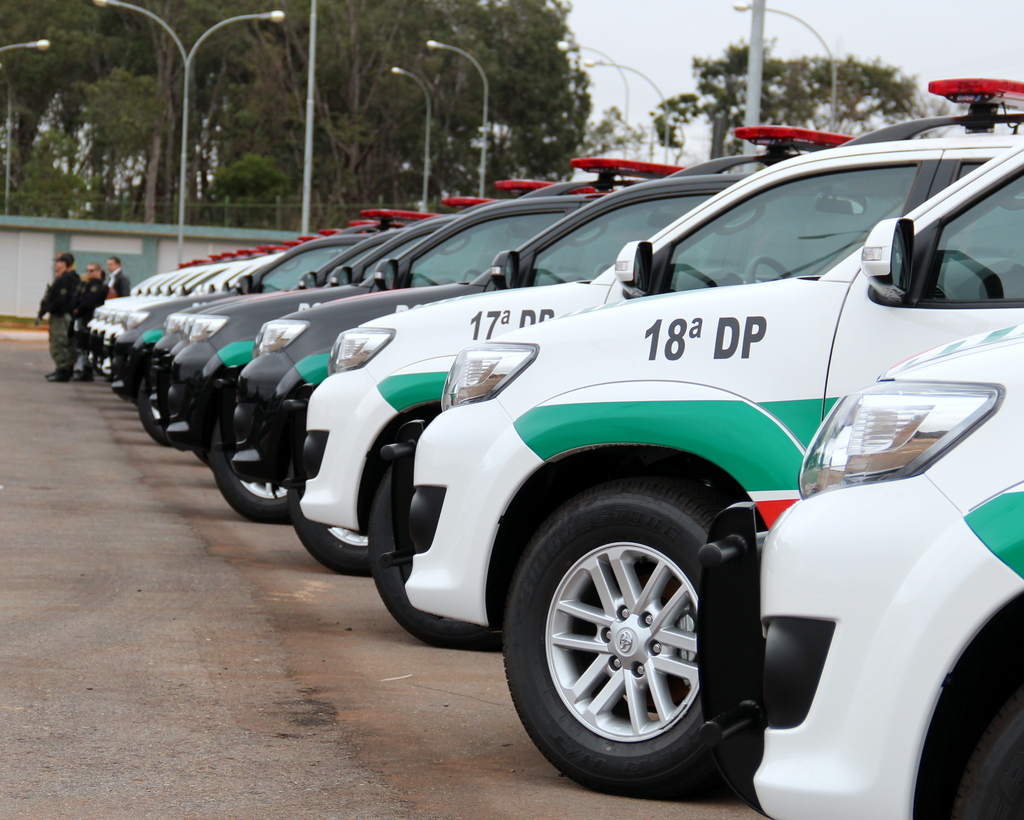Car: (85, 71, 1023, 819), (720, 315, 1013, 816)
